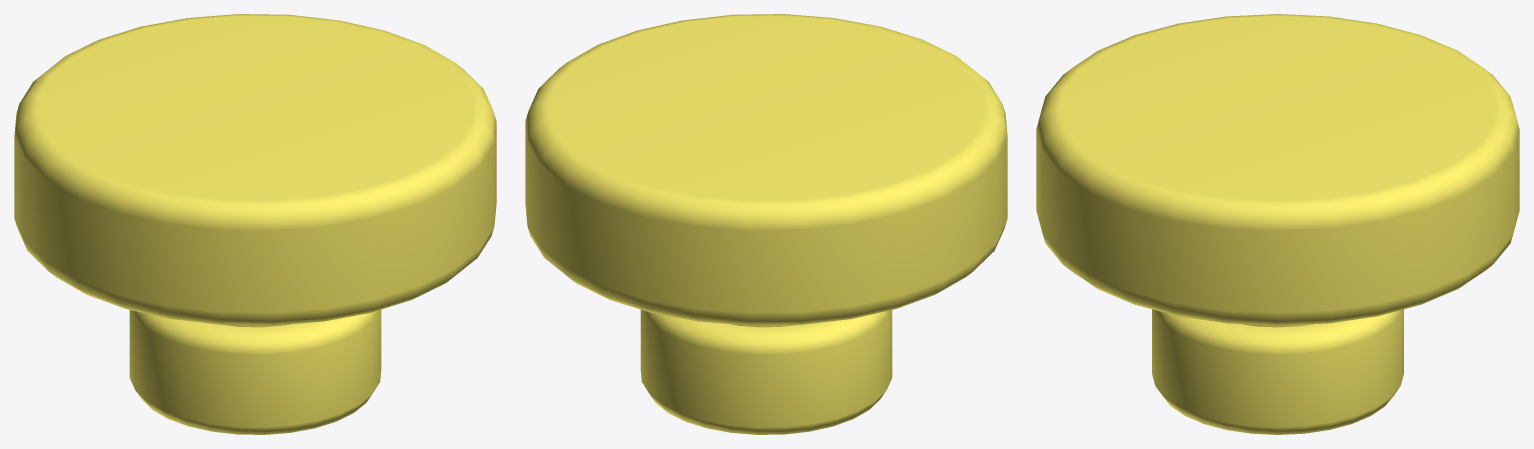
Rendered from Store_12_Chair_1.glb.
3 views of the same model, side by side, from view 1: azimuth 30°, elevation 25°; view 2: azimuth 150°, elevation 25°; view 3: azimuth 270°, elevation 25° (orthographic).
Visible parts, largest first — view 1: Store_12_Chair_1; view 2: Store_12_Chair_1; view 3: Store_12_Chair_1.
Boxes of the visible parts, bbox=[...] form: Store_12_Chair_1: bbox=[14, 14, 496, 434]; Store_12_Chair_1: bbox=[525, 14, 1007, 434]; Store_12_Chair_1: bbox=[1036, 14, 1519, 434].
Bounding box in the file's own units: 0.8186 × 0.5251 × 0.8186.
1 material, 1 textured.
